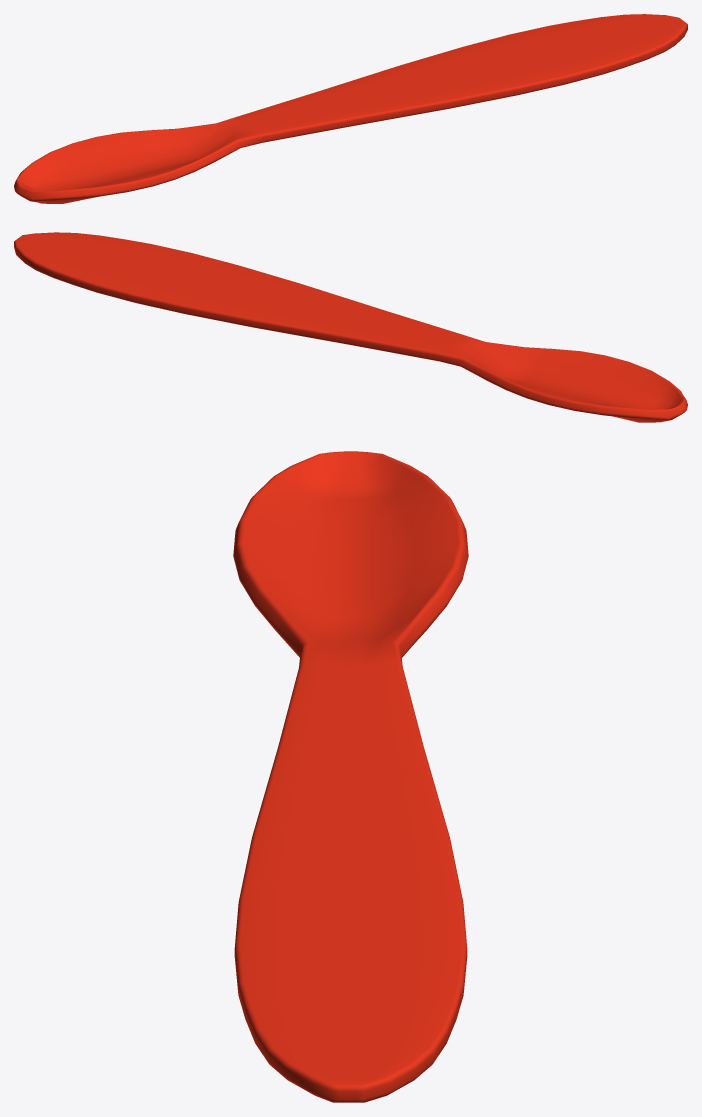
File: P_Spoon.fbx
3 views of the same model, one above another, from view 1: azimuth 30°, elevation 25°; view 2: azimuth 150°, elevation 25°; view 3: azimuth 270°, elevation 25° (orthographic). The views are drawn at different scales.
Parts seen in each view (by area): view 1: P_Spoon; view 2: P_Spoon; view 3: P_Spoon.
Boxes of the visible parts, left/top/right/bottom form: P_Spoon: left=14, top=14, right=687, bottom=203; P_Spoon: left=14, top=232, right=687, bottom=422; P_Spoon: left=233, top=451, right=468, bottom=1102.
Size of the model in its own units: 4217 by 146 by 646.
